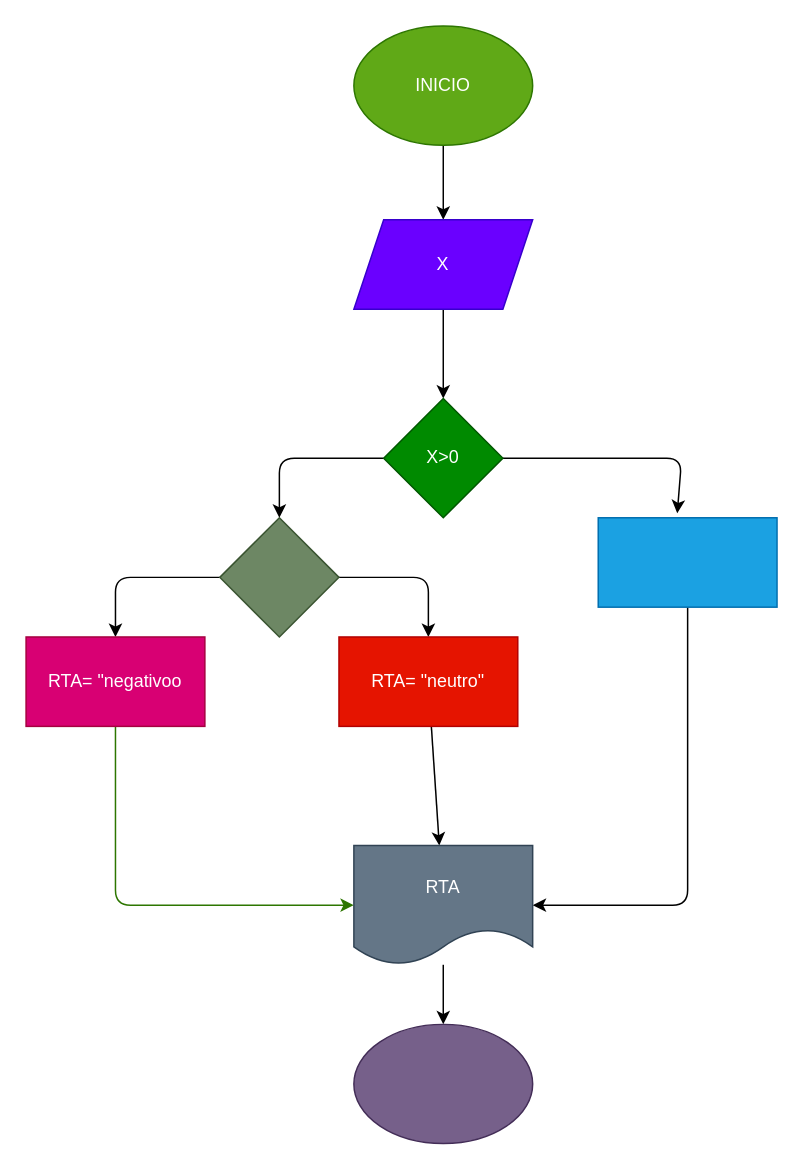
Some shapes in this 803 by 1170 pixel diagram are drawn without their labels. Each missing label, with the centre of its shape:
FIN: point (442, 1083)
RTA= "positivo": point (687, 561)
X==0: point (278, 576)
